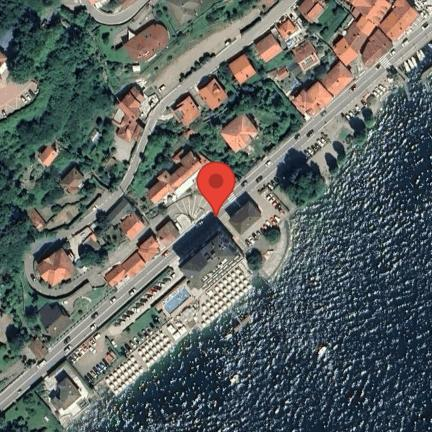area_open: (68, 207, 293, 397), (258, 40, 432, 233), (146, 0, 273, 109), (51, 266, 115, 322), (0, 64, 41, 119)
built: (179, 234, 241, 297), (149, 147, 214, 205), (346, 0, 400, 52), (112, 84, 147, 144), (378, 0, 422, 45), (125, 24, 171, 65), (37, 246, 82, 287), (220, 112, 260, 155), (296, 80, 335, 122), (47, 373, 84, 414), (41, 302, 76, 343), (323, 59, 358, 99), (229, 198, 266, 235), (364, 27, 395, 70), (198, 76, 229, 112), (175, 94, 203, 132), (104, 196, 135, 229), (294, 39, 323, 74), (137, 234, 166, 269), (255, 31, 285, 64), (157, 217, 184, 251), (229, 53, 257, 85), (334, 35, 361, 68), (119, 211, 148, 241), (104, 263, 131, 290), (276, 16, 304, 42), (298, 0, 329, 23), (122, 251, 148, 277), (61, 167, 86, 194), (38, 145, 59, 167)
vegetation_high: (0, 2, 130, 395)
vegetation_low: (126, 70, 308, 194), (100, 0, 253, 88), (66, 215, 129, 273), (0, 388, 70, 432), (269, 49, 309, 95)
water: (86, 44, 432, 432)
